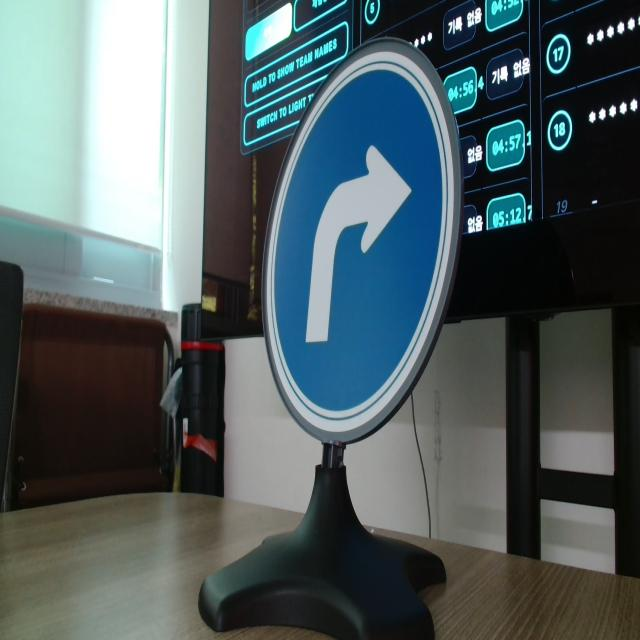right_dierection: (252, 16, 478, 466)
